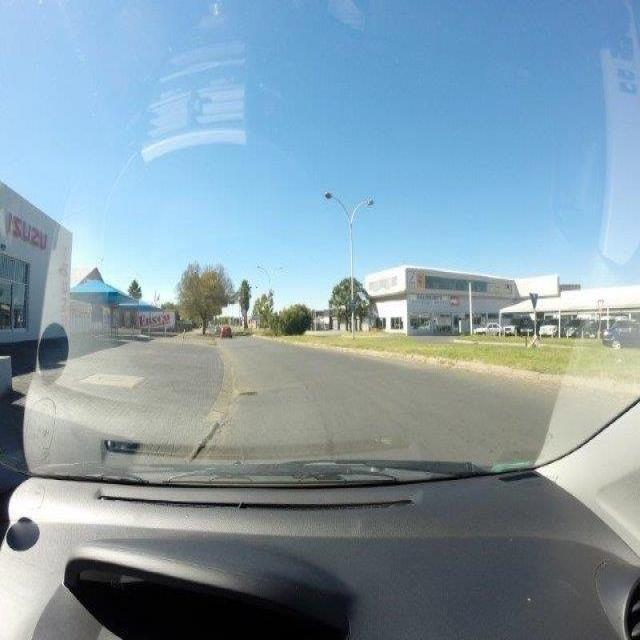lubang: (238, 385, 261, 399)
